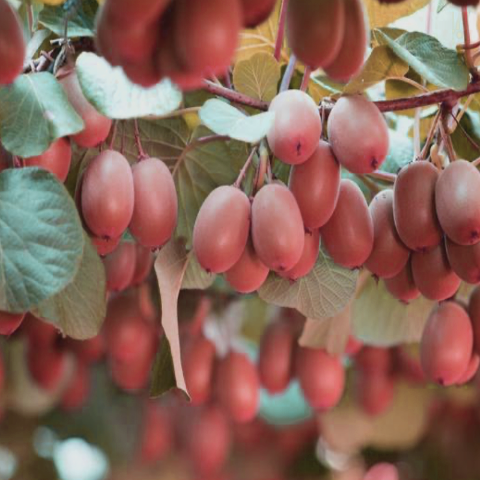kiwi: (388, 150, 456, 269), (191, 162, 257, 283), (119, 148, 186, 252), (327, 90, 395, 183), (240, 174, 305, 269), (418, 293, 478, 391), (80, 143, 134, 248)
